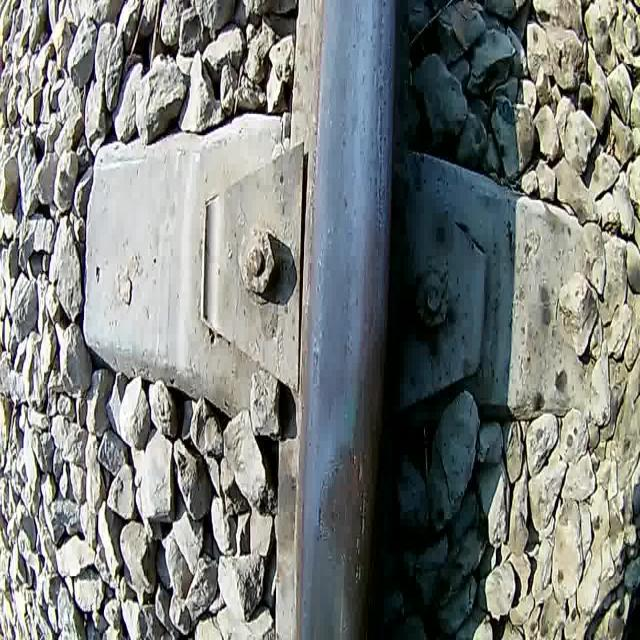Squats: (313, 437, 372, 590)
